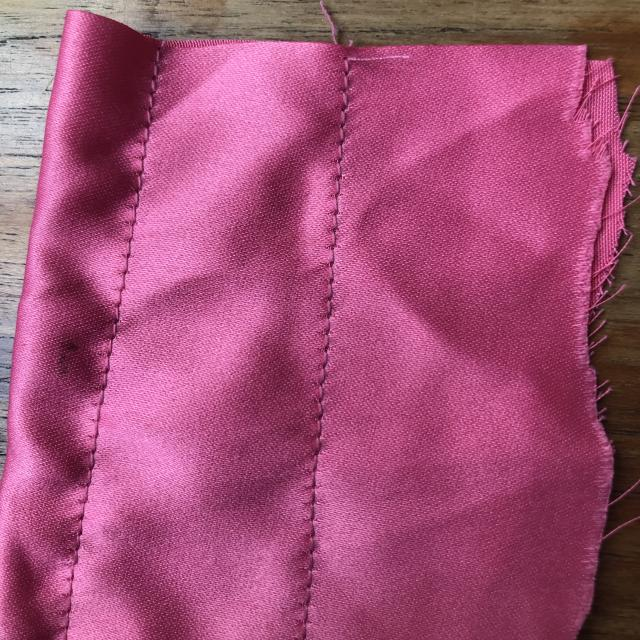good: (298, 265, 358, 416)
